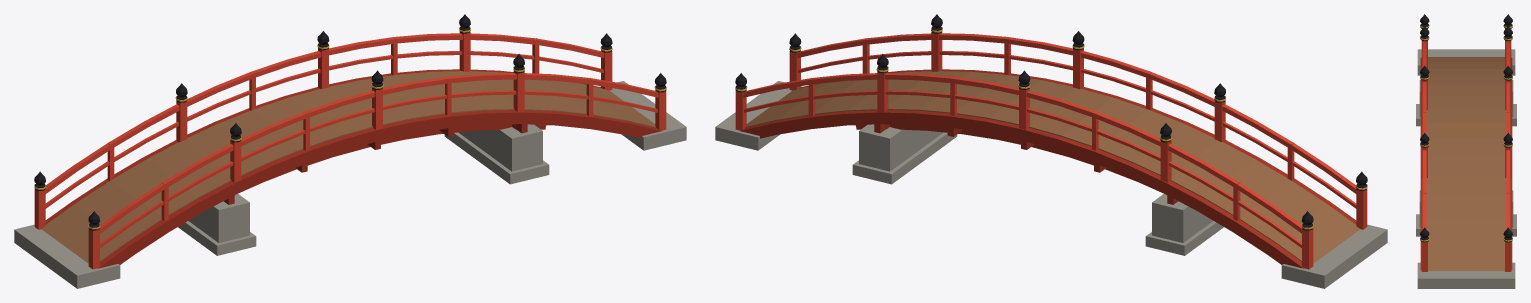
Rendered from vermilion-bridge.glb.
3 views of the same model, side by side, from view 1: azimuth 30°, elevation 25°; view 2: azimuth 150°, elevation 25°; view 3: azimuth 270°, elevation 25° (orthographic). The views are drawn at different scales.
Visible parts, largest first — view 1: VermilionBridge_Deck, VermilionBridge_Verm, VermilionBridge_VermDark, VermilionBridge_Stone, VermilionBridge_Giboshi; view 2: VermilionBridge_Deck, VermilionBridge_Verm, VermilionBridge_VermDark, VermilionBridge_Stone, VermilionBridge_Giboshi; view 3: VermilionBridge_Deck, VermilionBridge_Stone, VermilionBridge_Verm, VermilionBridge_Giboshi, VermilionBridge_VermDark, VermilionBridge_Gold.
Boxes of the visible parts, bbox=[...] form: VermilionBridge_Deck: bbox=[41, 71, 655, 263]; VermilionBridge_Verm: bbox=[34, 32, 666, 269]; VermilionBridge_VermDark: bbox=[45, 69, 661, 268]; VermilionBridge_Stone: bbox=[14, 81, 686, 288]; VermilionBridge_Giboshi: bbox=[34, 14, 666, 230]; VermilionBridge_Deck: bbox=[746, 71, 1360, 263]; VermilionBridge_Verm: bbox=[735, 32, 1367, 269]; VermilionBridge_VermDark: bbox=[740, 69, 1356, 268]; VermilionBridge_Stone: bbox=[715, 81, 1387, 288]; VermilionBridge_Giboshi: bbox=[735, 14, 1367, 230]; VermilionBridge_Deck: bbox=[1426, 57, 1506, 270]; VermilionBridge_Stone: bbox=[1416, 49, 1516, 288]; VermilionBridge_Verm: bbox=[1421, 28, 1511, 271]; VermilionBridge_Giboshi: bbox=[1420, 14, 1512, 242]; VermilionBridge_VermDark: bbox=[1420, 57, 1512, 270]; VermilionBridge_Gold: bbox=[1420, 25, 1512, 241].
Size of the model in its own units: 62.4 by 13.8 by 11.6.
